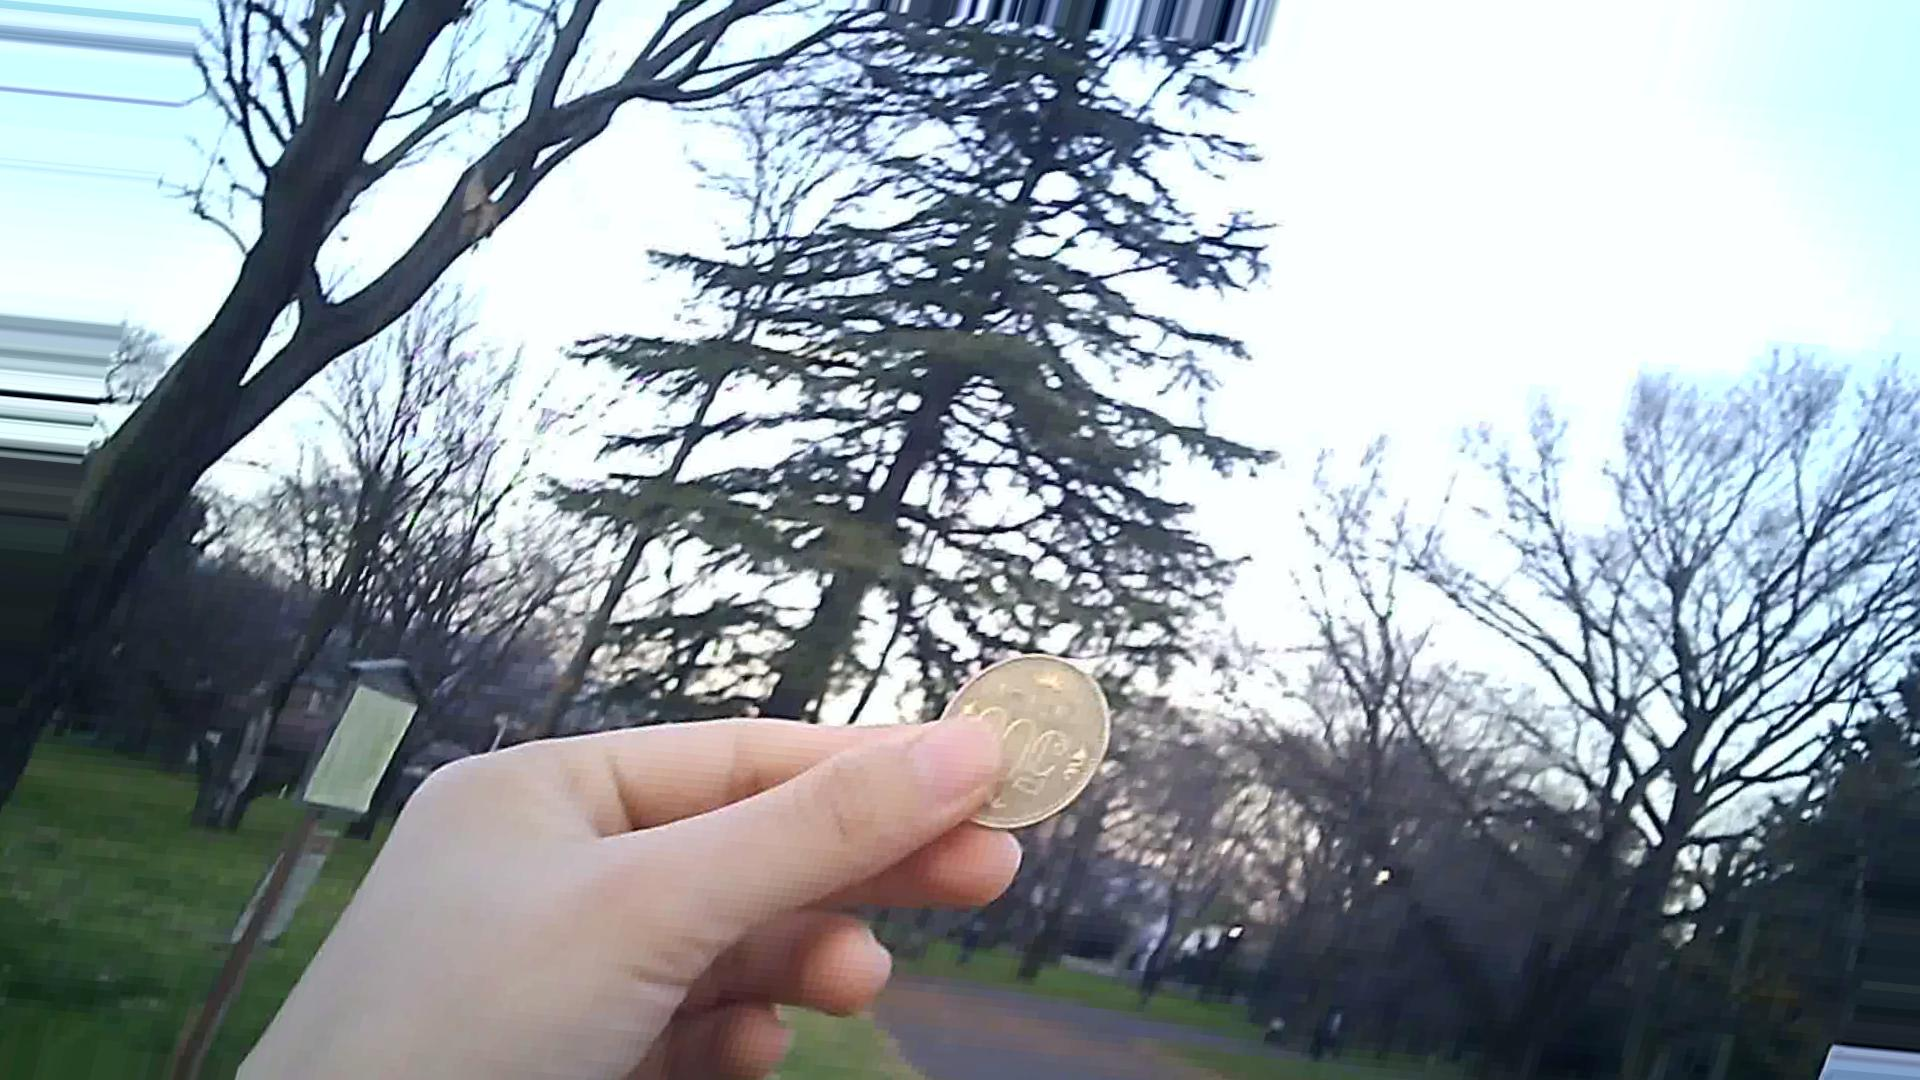500 Yen: (928, 640, 1122, 829)
